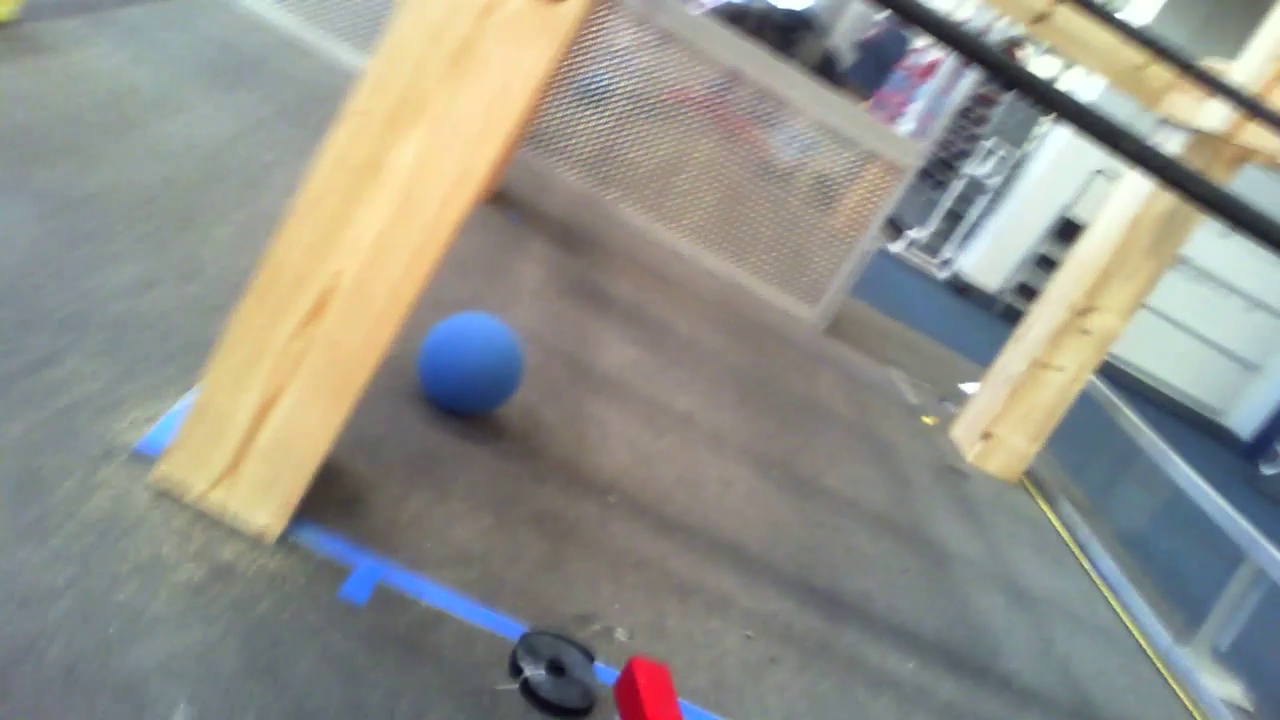blue_cargo: (423, 297, 524, 422)
